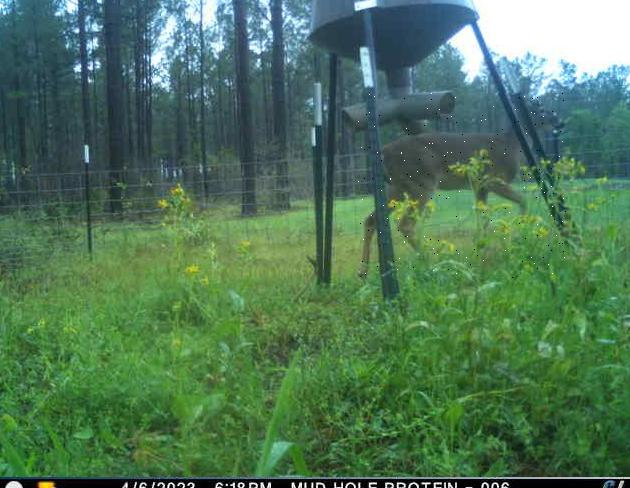Deer: (356, 93, 567, 280)
